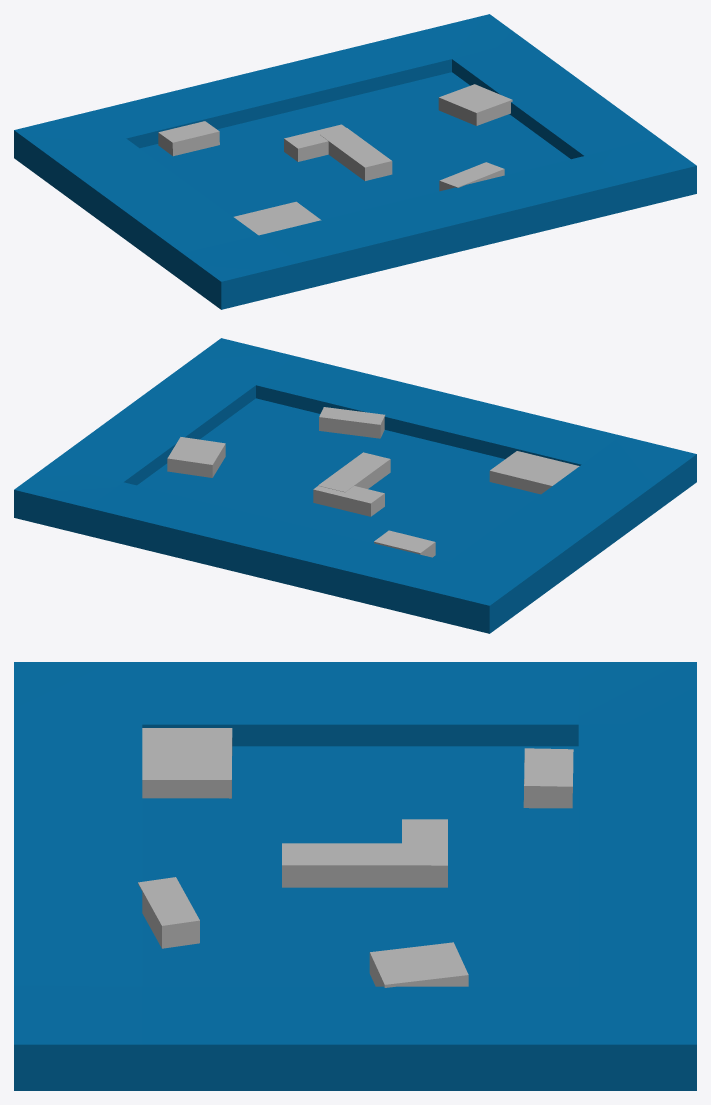
The model's file is TestGround (1).fbx.
The picture shows the model from 3 angles, top to bottom: view 1: azimuth 30°, elevation 25°; view 2: azimuth 150°, elevation 25°; view 3: azimuth 270°, elevation 25°; orthographic projection. The views are drawn at different scales.
Visible parts, largest first — view 1: TestGround__1_, Cube__3_, Cube__1_, Cube__4_, Cube, Cube__5_, Cube__2_; view 2: TestGround__1_, Cube__4_, Cube__1_, Cube__3_, Cube__2_, Cube__5_, Cube; view 3: TestGround__1_, Cube__3_, Cube__4_, Cube__1_, Cube__2_, Cube, Cube__5_.
Boxes of the visible parts, x1,y1,x2,y2 form: TestGround__1_: (14, 14, 696, 309); Cube__3_: (320, 128, 392, 180); Cube__1_: (438, 84, 512, 125); Cube__4_: (234, 201, 321, 235); Cube: (158, 121, 219, 156); Cube__5_: (284, 124, 345, 161); Cube__2_: (439, 162, 504, 191); TestGround__1_: (14, 338, 696, 633); Cube__4_: (489, 451, 579, 494); Cube__1_: (167, 437, 225, 477); Cube__3_: (318, 452, 390, 492); Cube__2_: (319, 407, 385, 438); Cube__5_: (313, 486, 384, 516); Cube: (374, 530, 435, 557); TestGround__1_: (14, 662, 696, 1090); Cube__3_: (282, 843, 431, 887); Cube__4_: (142, 728, 232, 798); Cube__1_: (369, 942, 468, 987); Cube__2_: (138, 877, 199, 948); Cube: (523, 748, 573, 808); Cube__5_: (402, 819, 447, 887).
Bounding box in the file's own units: 7620 × 709 × 5750.
